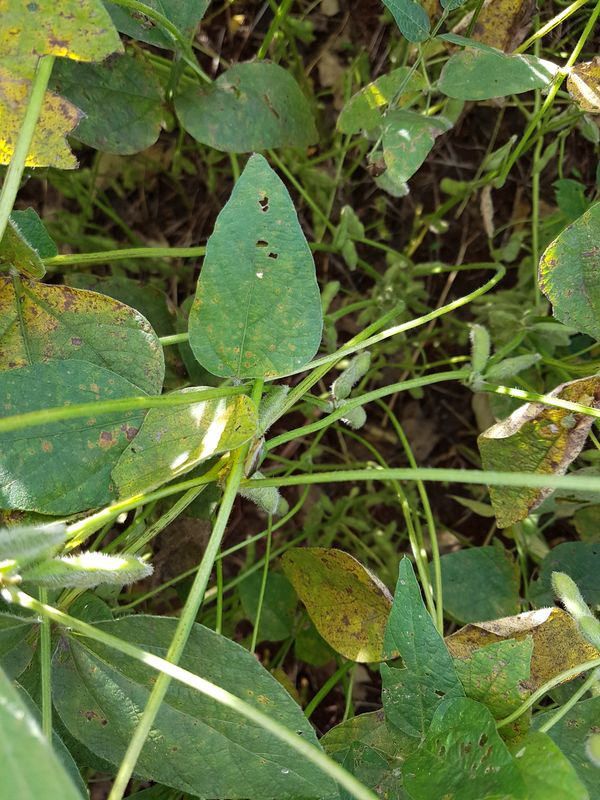Edessa_meditabunda: (229, 430, 279, 487)
Euschistus_heros_adulto: (363, 153, 393, 185)
Euschistus_heros_ninfa: (556, 411, 583, 435), (574, 388, 598, 410)
